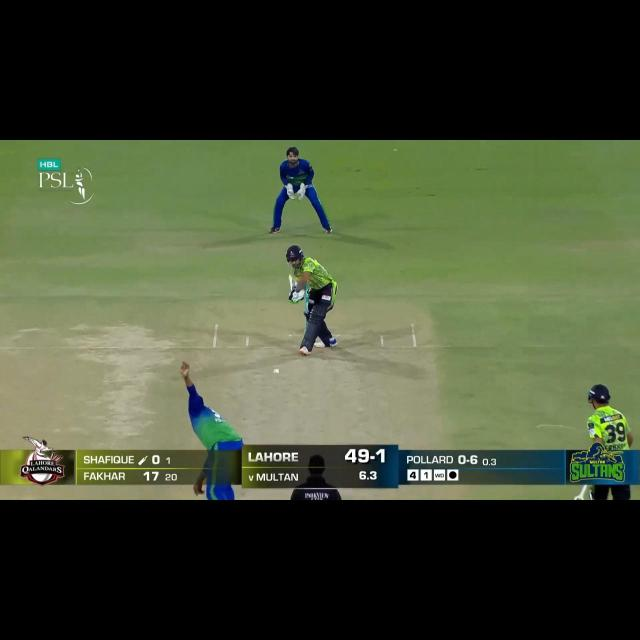bat: (286, 274, 300, 292), (572, 491, 588, 500)
toe: (286, 273, 296, 282)
